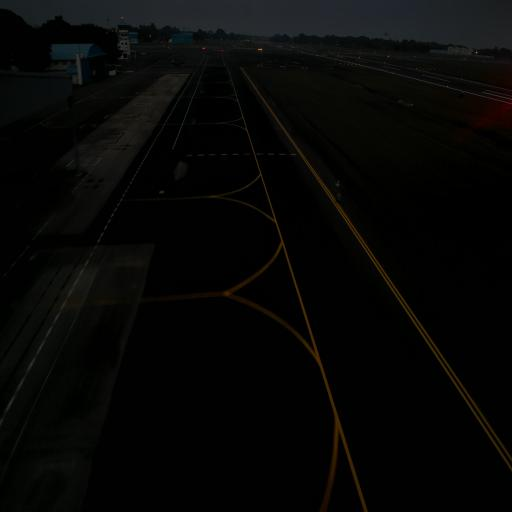on: (336, 178, 340, 186)
